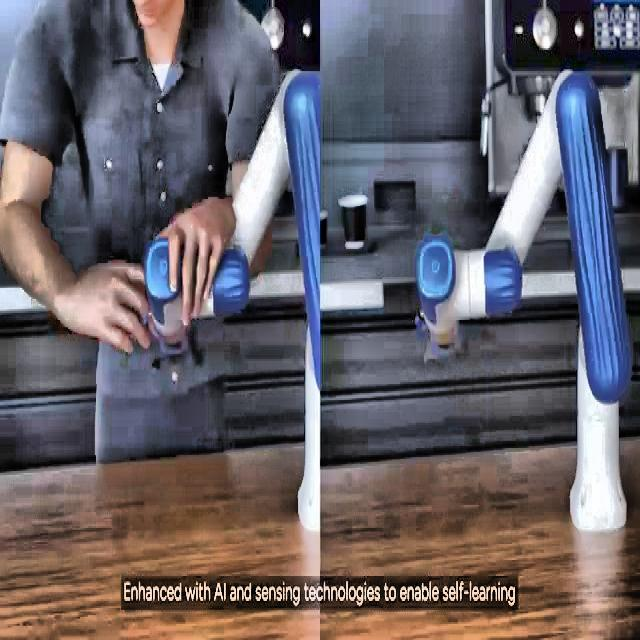robot: (415, 0, 638, 532), (136, 62, 327, 546)
